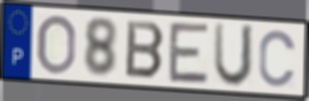8: (83, 15, 119, 80)
B: (123, 18, 167, 82)
C: (257, 28, 299, 89)
E: (167, 20, 211, 87)
O: (35, 13, 78, 77)
U: (212, 21, 257, 90)
